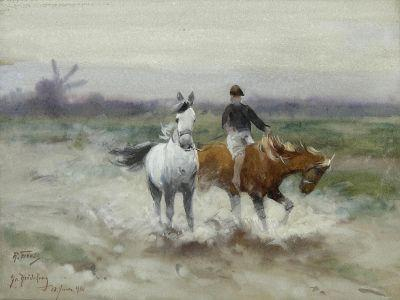person: (222, 83, 271, 194)
